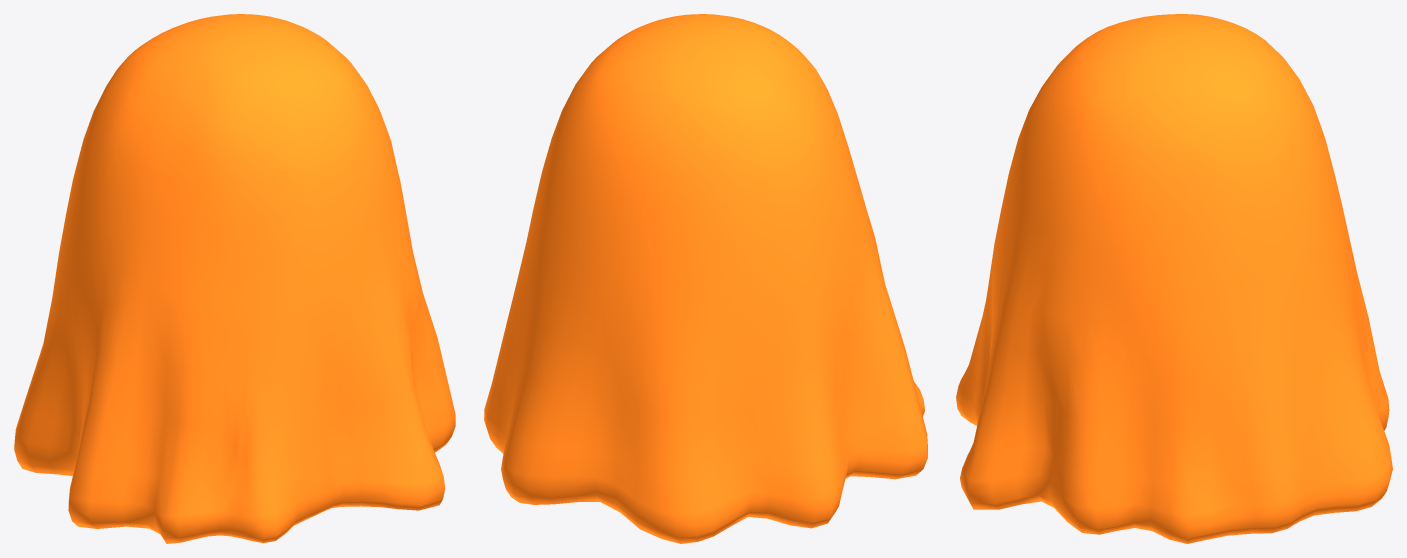
File: ghost2.fbx
3 renders of one model, left to right at view 1: azimuth 30°, elevation 25°; view 2: azimuth 150°, elevation 25°; view 3: azimuth 270°, elevation 25°, orthographic. The views are drawn at different scales.
Visible parts, largest first — view 1: Ghost.002; view 2: Ghost.002; view 3: Ghost.002.
Part boxes in pixels (x1,y1,x2,y2): Ghost.002: [14, 14, 455, 543]; Ghost.002: [484, 14, 927, 543]; Ghost.002: [956, 14, 1392, 543].
Bounding box in the file's own units: 275 × 303 × 264.
